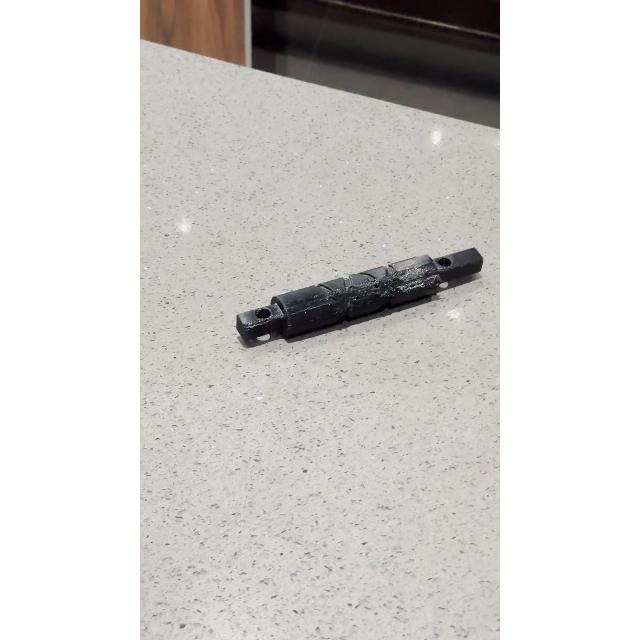Pieza_1: (222, 235, 492, 369)
